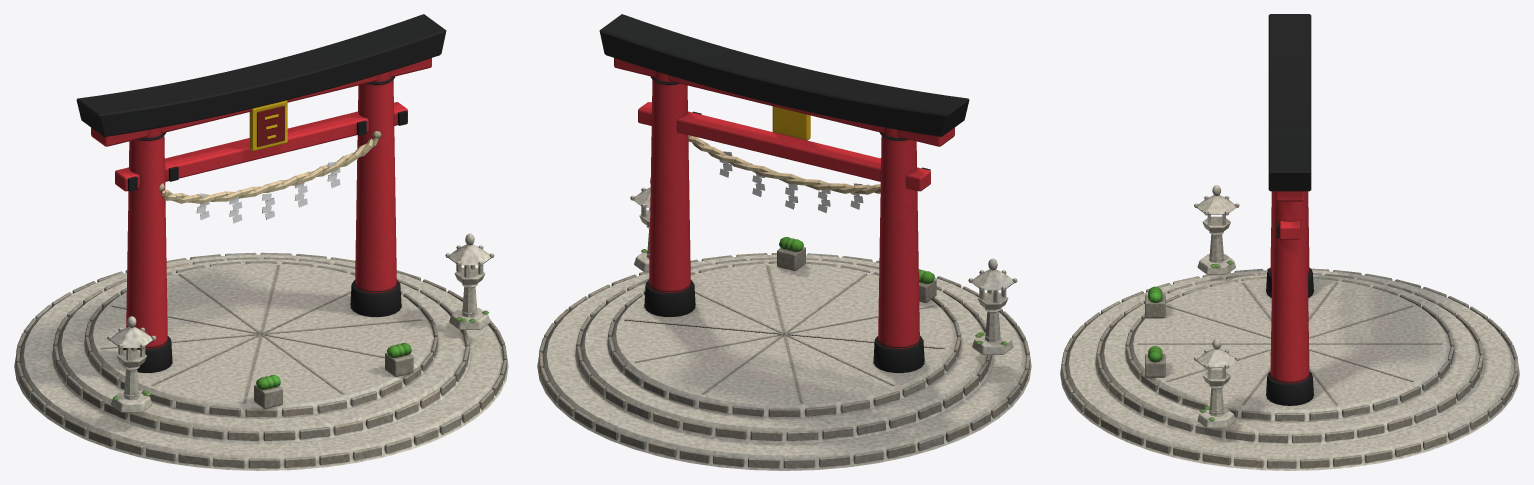
The model's file is portalGate.glb.
3 renders of one model, left to right at view 1: azimuth 30°, elevation 25°; view 2: azimuth 150°, elevation 25°; view 3: azimuth 270°, elevation 25°, orthographic. The views are drawn at different scales.
Parts seen in each view (by area): view 1: cyl; view 2: cyl; view 3: cyl.
Part boxes in pixels (x1,y1,x2,y2): cyl: (14,14,508,470); cyl: (537,14,1031,470); cyl: (1060,14,1519,470).
Size of the model in its own units: 15.7 by 10.6 by 15.7.
1 material, 1 textured.
